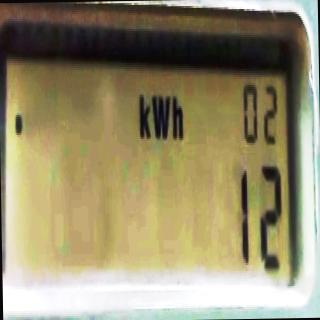-: (13, 106, 23, 139)
0: (241, 78, 260, 152)
1: (238, 152, 252, 272)
2: (253, 157, 284, 276), (261, 78, 278, 152)
